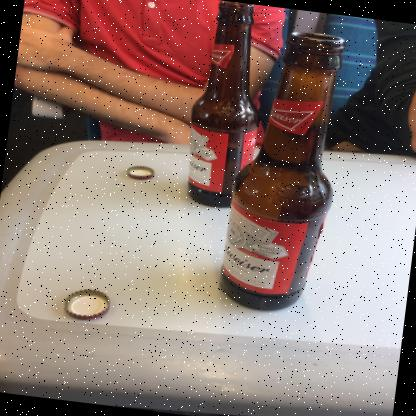Glass bottle: (219, 32, 345, 310), (187, 1, 259, 207)
Metal bottle cap: (64, 289, 109, 319), (126, 166, 154, 179)
